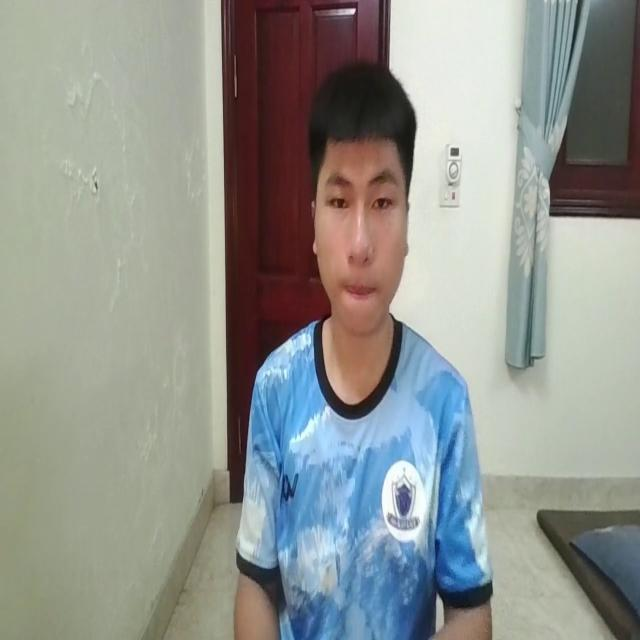student: (236, 52, 494, 640)
